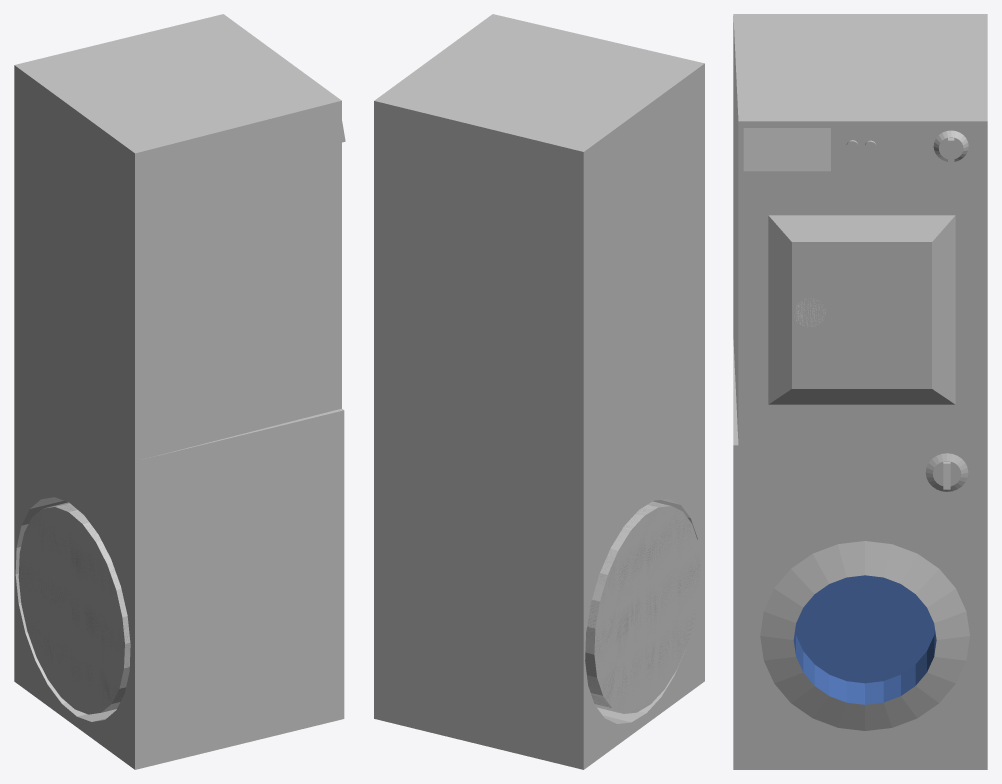
3 renders of one model, left to right at view 1: azimuth 30°, elevation 25°; view 2: azimuth 150°, elevation 25°; view 3: azimuth 270°, elevation 25°, orthographic. The views are drawn at different scales.
Parts seen in each view (by area): view 1: mesh1_mesh1-geometry; view 2: mesh1_mesh1-geometry; view 3: mesh1_mesh1-geometry.
Part boxes in pixels (x1=…): mesh1_mesh1-geometry: x1=14, y1=14, x2=345, y2=769; mesh1_mesh1-geometry: x1=374, y1=14, x2=704, y2=769; mesh1_mesh1-geometry: x1=733, y1=14, x2=987, y2=769.
Bounding box in the file's own units: 0.3359 × 0.8876 × 0.3152.
